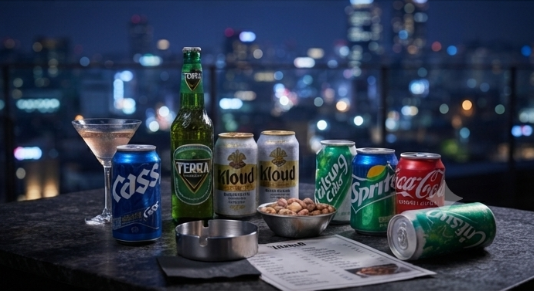beer-bottle: (170, 47, 215, 224)
beer-can: (111, 144, 167, 243), (256, 129, 299, 218), (214, 130, 256, 219)
